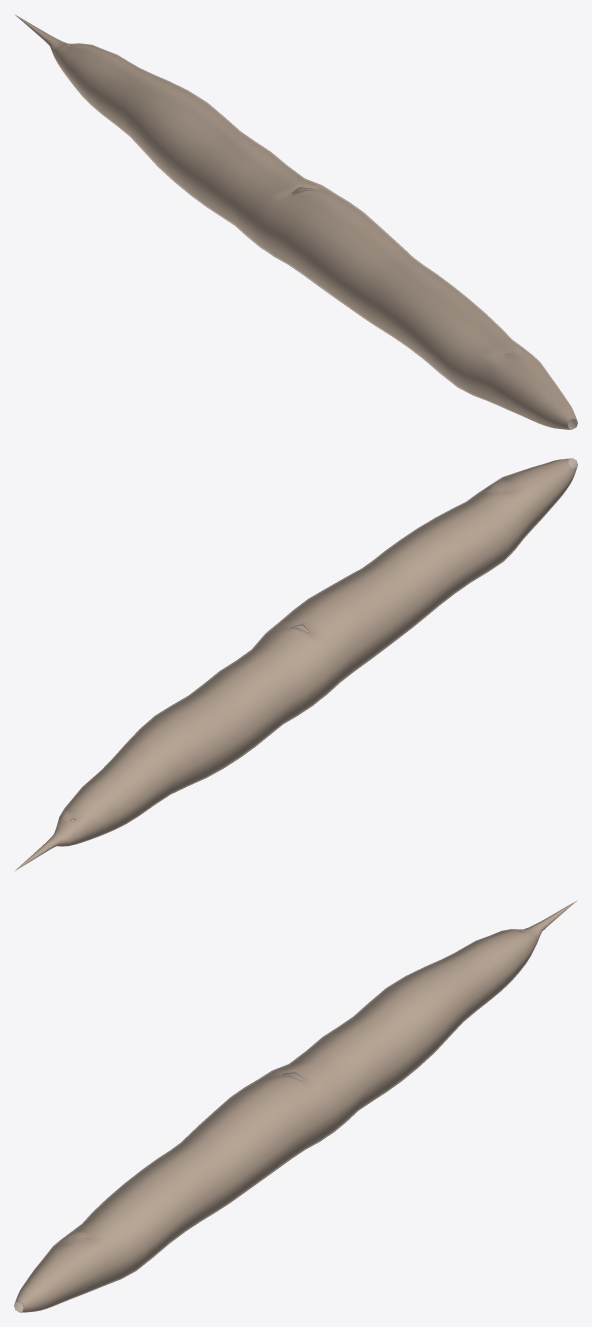
File: cuticle.dae
The picture shows the model from 3 angles, top to bottom: view 1: azimuth 30°, elevation 25°; view 2: azimuth 150°, elevation 25°; view 3: azimuth 330°, elevation 25°; orthographic projection.
Visible parts, largest first — view 1: Cuticle; view 2: Cuticle; view 3: Cuticle.
Part boxes in pixels (left/top/right/bottom): Cuticle: left=14, top=14, right=577, bottom=429; Cuticle: left=14, top=458, right=577, bottom=871; Cuticle: left=14, top=900, right=577, bottom=1312.
Bounding box in the file's own units: 0.6718 × 8.85 × 0.6726.
